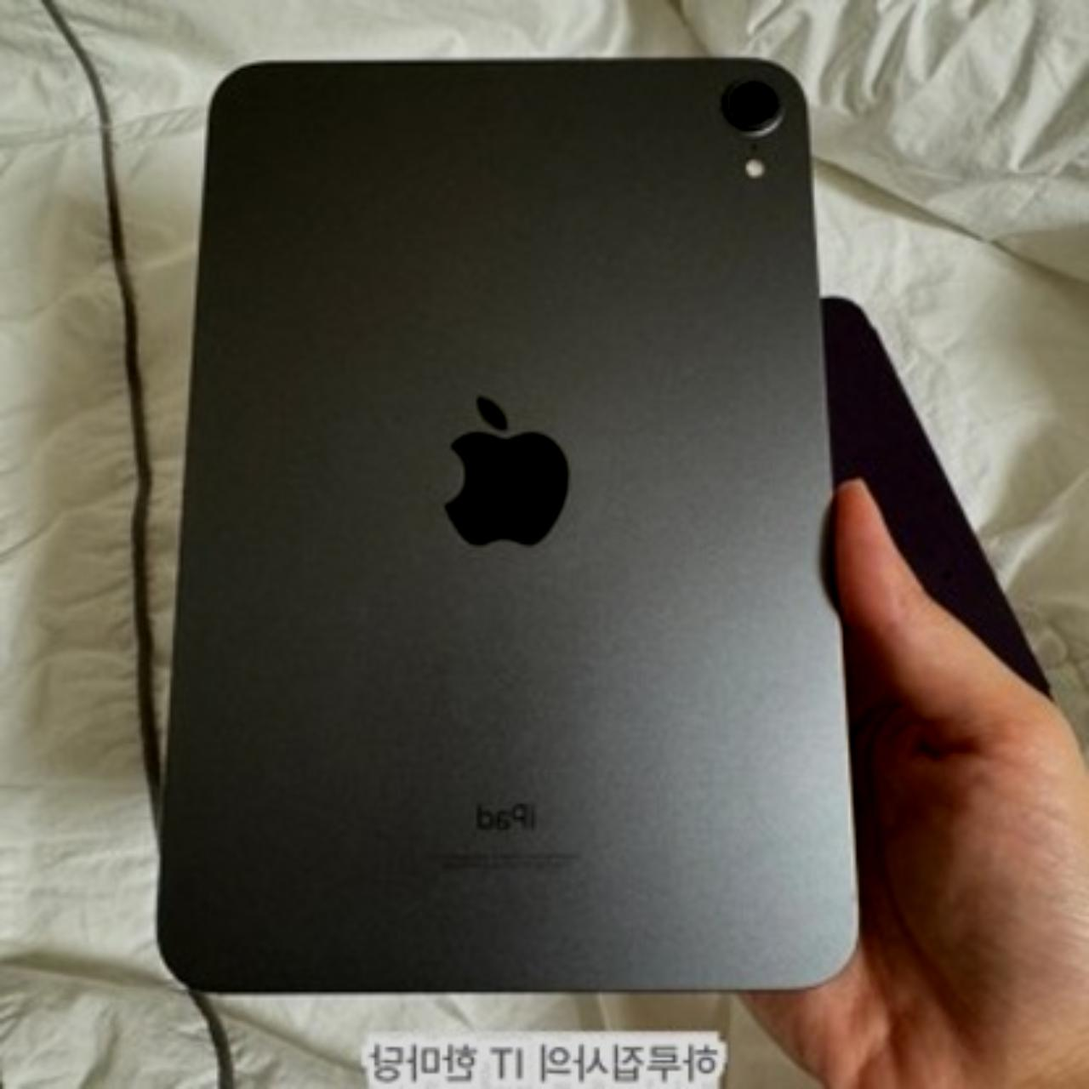Tablet_PC: (136, 48, 885, 1011)
